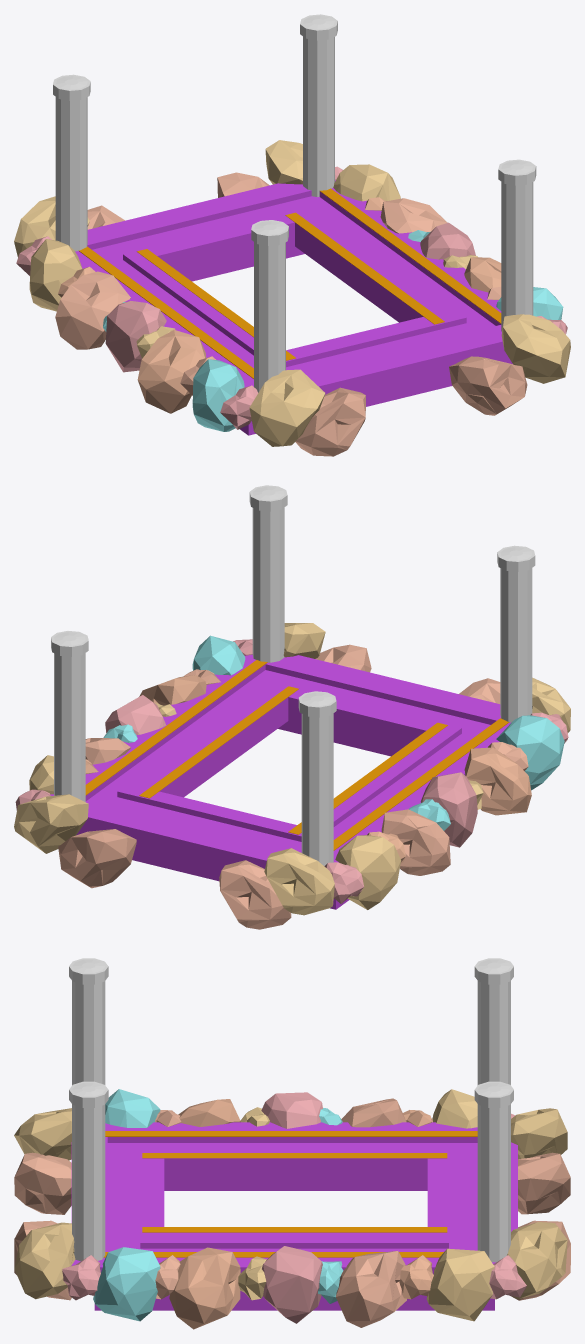
The model's file is DocaMermão.fbx.
The picture shows the model from 3 angles, top to bottom: view 1: azimuth 30°, elevation 25°; view 2: azimuth 150°, elevation 25°; view 3: azimuth 270°, elevation 25°; orthographic projection. The views are drawn at different scales.
Visible parts, largest first — view 1: Rochas, 1 Plataforma, Pilar3, Pilar1, Pilar2, Pilar4, Detalhe em ouro 4, Detalhe em Ouro 5, Rochas1, Detalhe em ouro, Detalhe em ouro 3; view 2: Rochas, 1 Plataforma, Pilar2, Pilar4, Pilar1, Pilar3, Detalhe em ouro 4, Detalhe em Ouro 5, Detalhe em ouro, Detalhe em ouro 3, Rochas1; view 3: Rochas, 1 Plataforma, Pilar2, Pilar3, Pilar4, Pilar1, Rochas1, Detalhe em Ouro 5, Detalhe em ouro, Detalhe em ouro 3, Detalhe em ouro 4.
Boxes of the visible parts, bbox=[...] form: Rochas: bbox=[14, 140, 570, 456]; 1 Plataforma: bbox=[75, 180, 512, 435]; Pilar3: bbox=[300, 14, 337, 197]; Pilar1: bbox=[53, 74, 90, 251]; Pilar2: bbox=[498, 159, 536, 331]; Pilar4: bbox=[251, 220, 288, 392]; Detalhe em ouro 4: bbox=[320, 188, 501, 323]; Detalhe em Ouro 5: bbox=[79, 246, 253, 378]; Rochas1: bbox=[380, 198, 447, 233]; Detalhe em ouro: bbox=[285, 212, 444, 324]; Detalhe em ouro 3: bbox=[136, 249, 295, 360]; Rochas: bbox=[14, 623, 570, 929]; 1 Plataforma: bbox=[50, 654, 510, 909]; Pilar2: bbox=[249, 485, 287, 662]; Pilar4: bbox=[497, 545, 535, 722]; Pilar1: bbox=[298, 691, 336, 866]; Pilar3: bbox=[51, 631, 88, 801]; Detalhe em ouro 4: bbox=[85, 660, 267, 795]; Detalhe em Ouro 5: bbox=[333, 718, 509, 850]; Detalhe em ouro: bbox=[139, 686, 298, 798]; Detalhe em ouro 3: bbox=[288, 722, 447, 834]; Rochas1: bbox=[85, 738, 130, 764]; Rochas: bbox=[14, 1089, 570, 1329]; 1 Plataforma: bbox=[71, 1122, 517, 1310]; Pilar2: bbox=[69, 1081, 108, 1261]; Pilar3: bbox=[474, 1081, 513, 1262]; Pilar4: bbox=[69, 958, 108, 1085]; Pilar1: bbox=[474, 958, 513, 1085]; Rochas1: bbox=[336, 1251, 406, 1327]; Detalhe em Ouro 5: bbox=[105, 1131, 477, 1136]; Detalhe em ouro: bbox=[142, 1227, 447, 1232]; Detalhe em ouro 3: bbox=[142, 1153, 447, 1158]; Detalhe em ouro 4: bbox=[103, 1252, 443, 1257].
Bounding box in the file's own units: 1107 × 607 × 1336.
